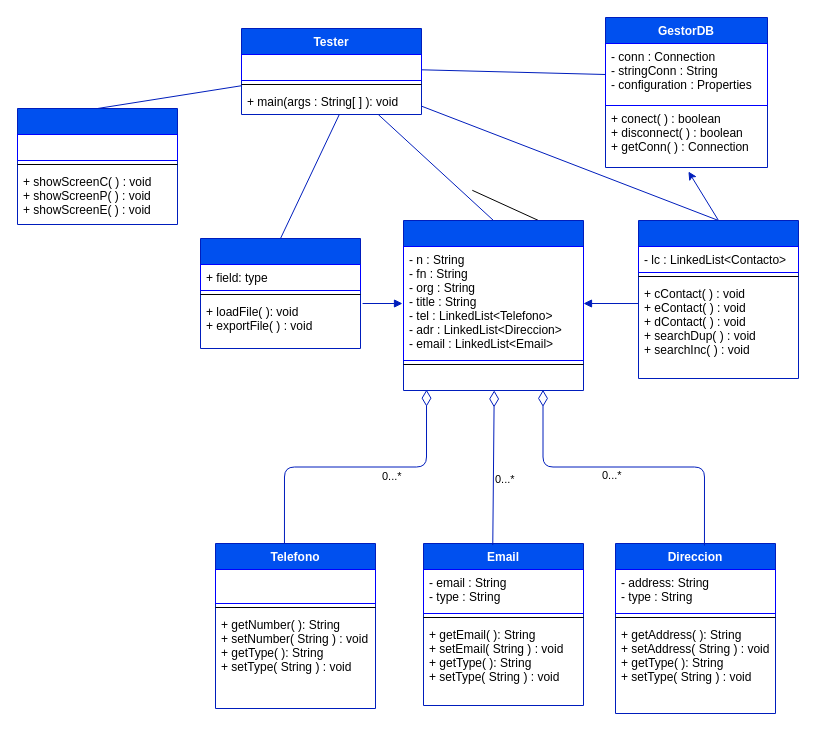
This 816x734 diagram has some shape labels left out. The box of each missing label's shape, as (x1, y1, x2, y2) in pixels:
- number : String - type : String: (214, 568, 376, 604)
Contacto: (402, 220, 584, 390)
ControlGUI: (16, 108, 178, 224)
GestorArchivo: (200, 238, 360, 348)
GestorContacto: (638, 220, 798, 378)
